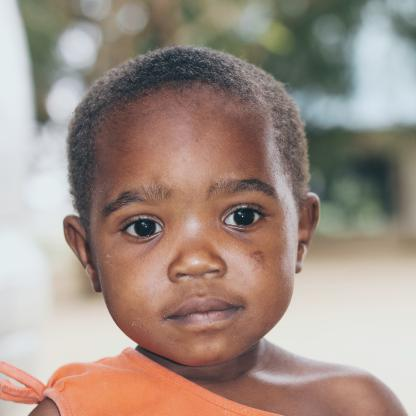Eye: (116, 207, 168, 249), (218, 196, 270, 234)
Mouth: (162, 294, 245, 329)
Nose: (165, 237, 229, 287)
